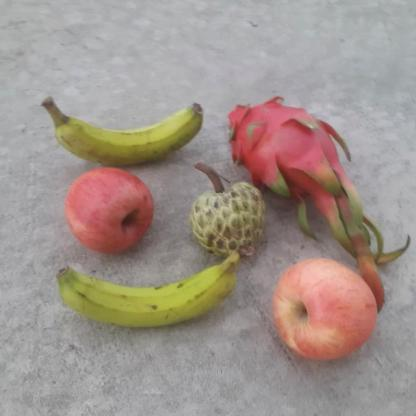annona: (188, 176, 274, 256)
apple: (270, 256, 380, 362), (60, 165, 156, 256)
banana: (49, 249, 242, 332), (40, 98, 205, 167)
pitaya: (221, 88, 353, 201)
